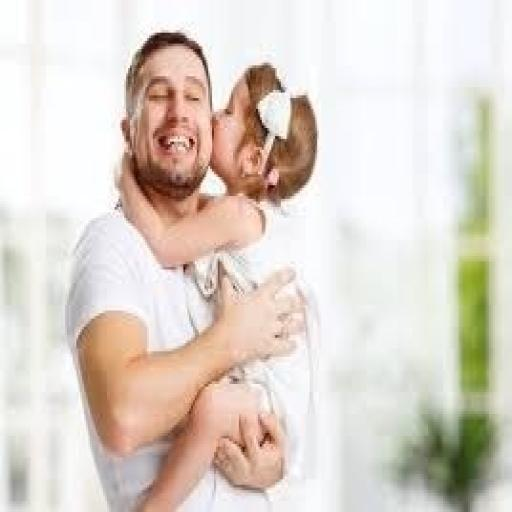hugging: (63, 28, 321, 510)
